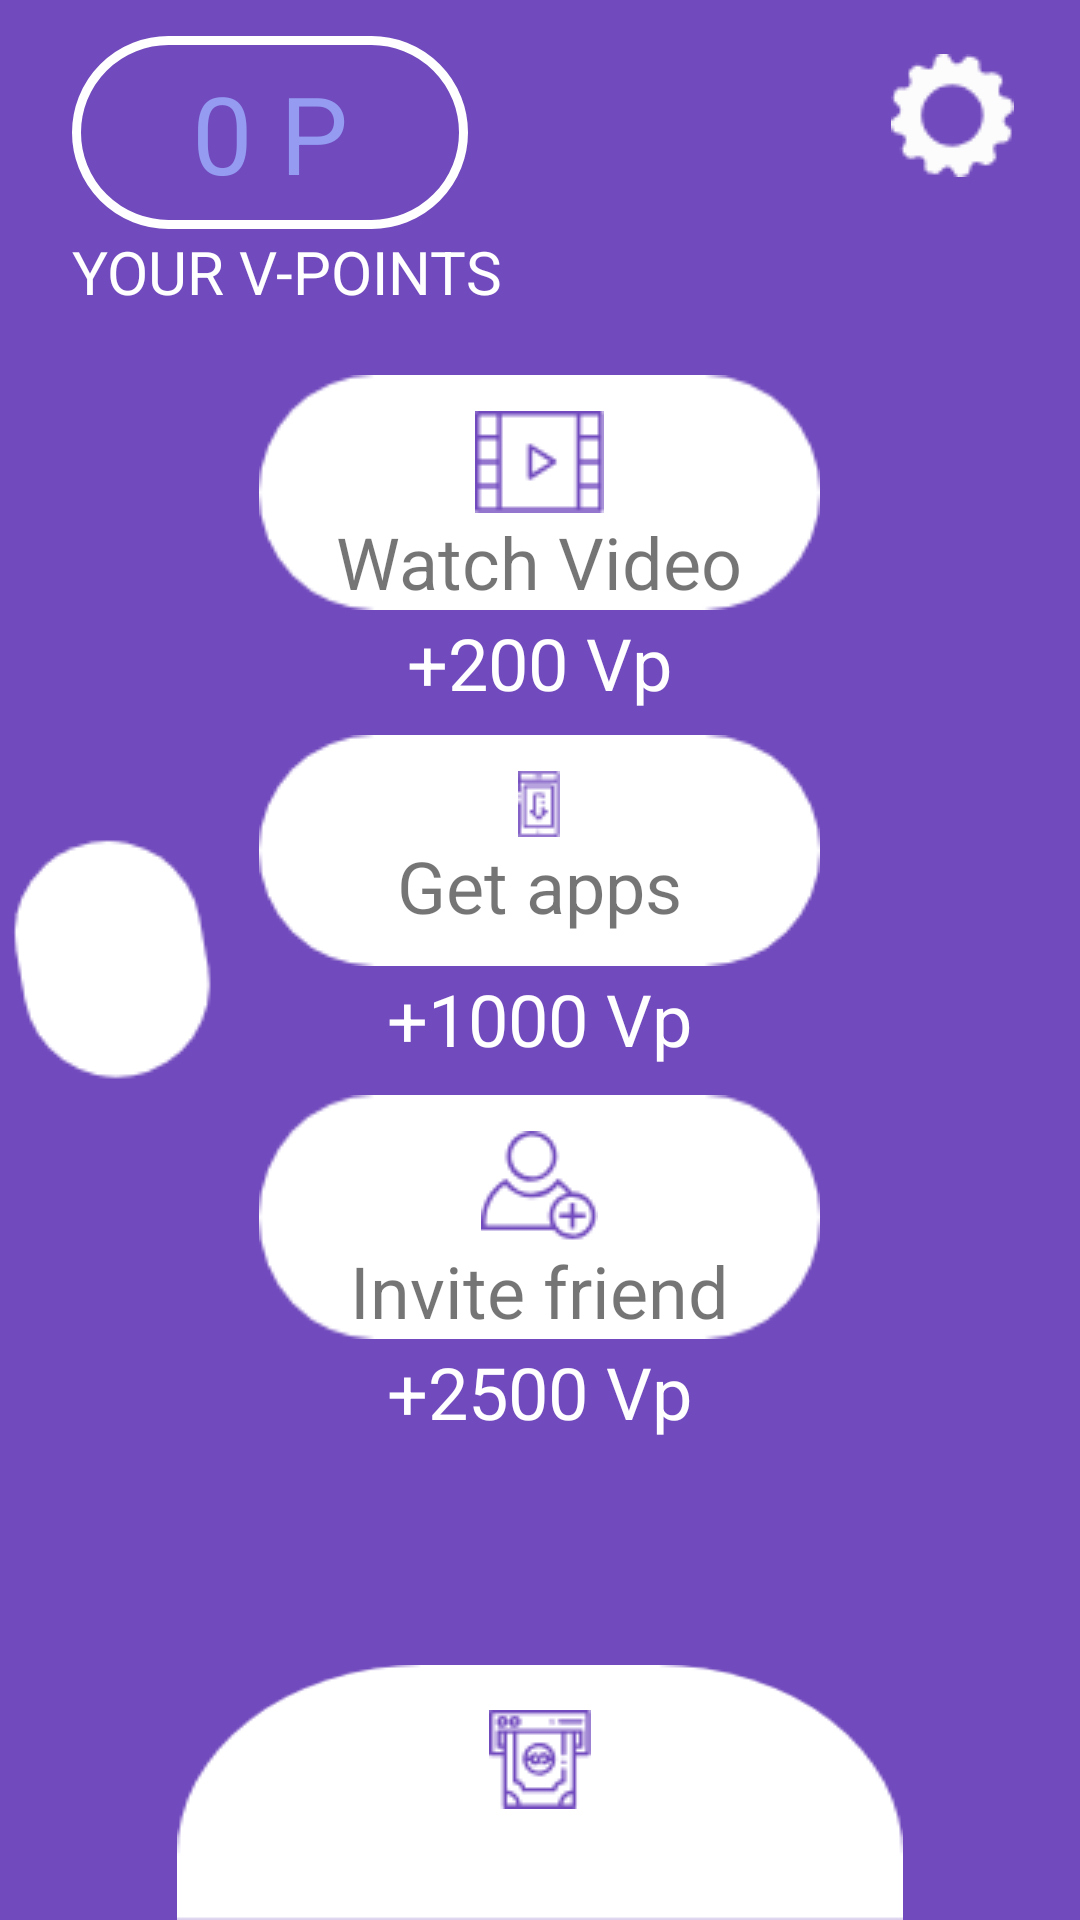

Screen size 1080x1920. Icon name, then its center in pixels as (x,y):
mobile: (539,804)
setting: (952,115)
video player: (539,462)
withdraw: (540,1759)
